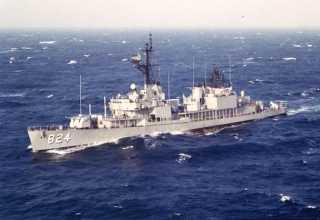warship: (17, 28, 287, 153)
